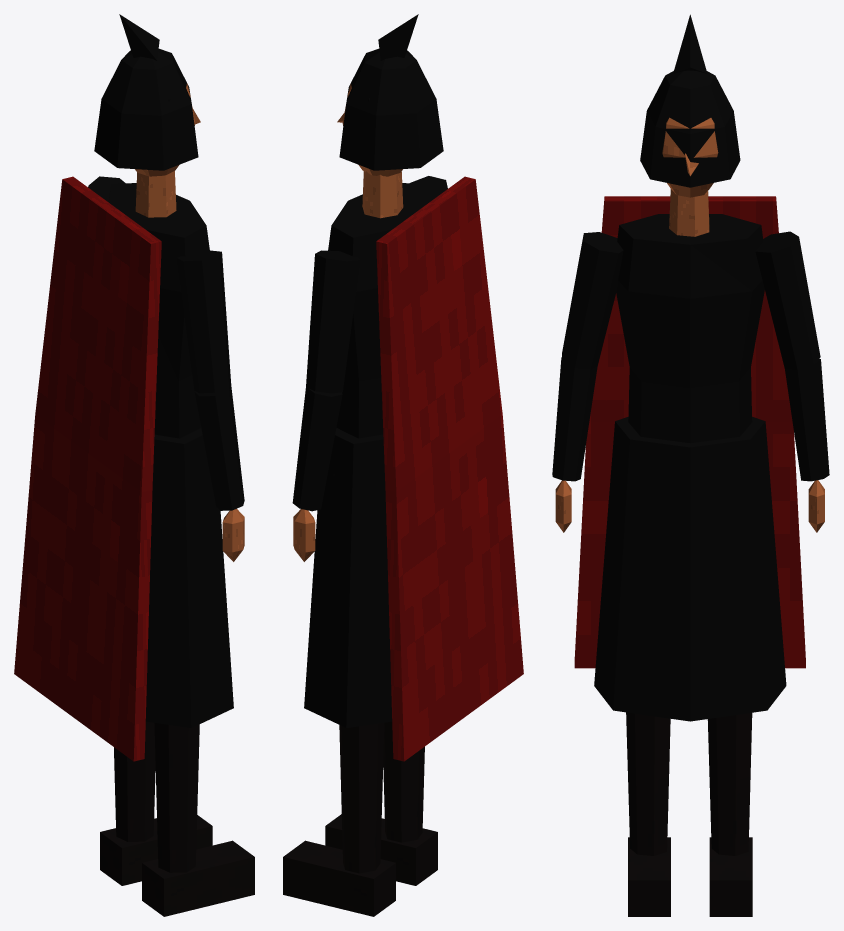
Rendered from sacerdote_culto.glb.
3 views of the same model, side by side, from view 1: azimuth 30°, elevation 25°; view 2: azimuth 150°, elevation 25°; view 3: azimuth 270°, elevation 25° (orthographic). The views are drawn at different scales.
Parts seen in each view (by area): view 1: capa, faldon, capucha, torso, pierna_der, brazo_der, pie_der, antebrazo_der, pierna_izq, pie_izq, cuello, mano_der; view 2: capa, faldon, capucha, torso, pierna_izq, brazo_izq, pie_izq, antebrazo_izq, pierna_der, pie_der, cuello, mano_izq; view 3: faldon, torso, capa, capucha, pierna_der, pierna_izq, brazo_izq, brazo_der, antebrazo_izq, antebrazo_der, pie_izq, pie_der (+4 smaller).
Part boxes in pixels (x1,y1,x2,y2): capa: (14,176,161,761); faldon: (145,428,233,727); capucha: (94,14,198,170); torso: (108,183,209,438); pierna_der: (154,723,199,872); brazo_der: (177,250,231,393); pie_der: (142,840,254,916); antebrazo_der: (194,385,244,510); pierna_izq: (114,721,155,841); pie_izq: (100,815,212,885); cuello: (135,171,176,217); mano_der: (222,508,244,561); capa: (376,176,523,761); faldon: (304,427,392,727); capucha: (339,14,443,170); torso: (328,183,429,438); pierna_izq: (339,722,384,873); brazo_izq: (306,250,359,393); pie_izq: (283,840,395,916); antebrazo_izq: (292,387,342,511); pierna_der: (383,721,424,842); pie_der: (325,814,437,885); cuello: (362,171,403,218); mano_izq: (293,509,315,561); faldon: (594,416,786,721); torso: (616,214,764,443); capa: (574,196,805,668); capucha: (640,14,740,187); pierna_der: (626,712,670,855); pierna_izq: (707,713,752,855); brazo_izq: (755,231,820,369); brazo_der: (562,232,623,369); antebrazo_izq: (784,358,829,481); antebrazo_der: (552,357,597,481); pie_izq: (709,837,752,916); pie_der: (628,837,670,916).
Bounding box in the file's own units: 0.3 × 1.7 × 0.5.
1 material, 1 textured.
